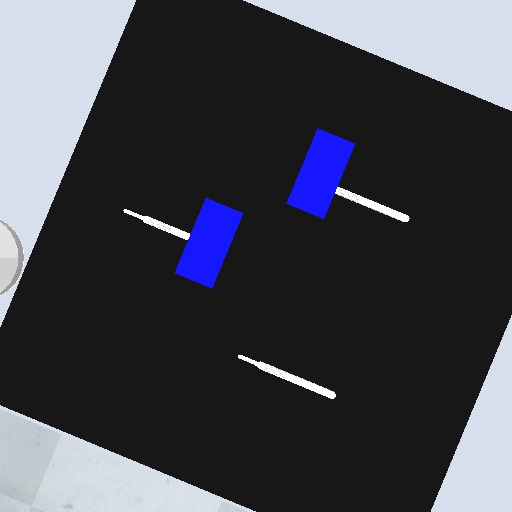bisturi: (236, 351, 340, 402), (333, 184, 413, 225), (120, 207, 193, 243)
